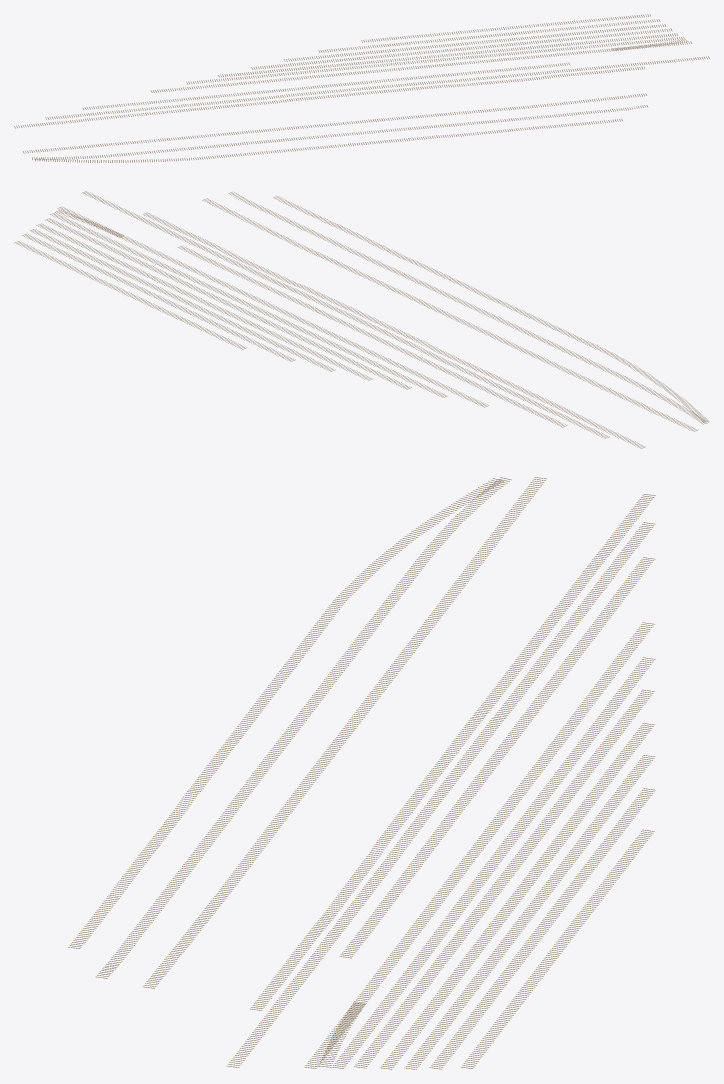
File: c_1628_17831_rail_sleeper.glb
3 views of the same model, one above another, from view 1: azimuth 30°, elevation 25°; view 2: azimuth 150°, elevation 25°; view 3: azimuth 270°, elevation 25° (orthographic). The views are drawn at different scales.
Parts seen in each view (by area): view 1: geometry_0; view 2: geometry_0; view 3: geometry_0.
Boxes of the visible parts, bbox=[...] form: geometry_0: bbox=[14, 14, 709, 162]; geometry_0: bbox=[14, 191, 708, 448]; geometry_0: bbox=[68, 477, 655, 1069].
Size of the model in its own units: 257 by 1.44 by 107.
